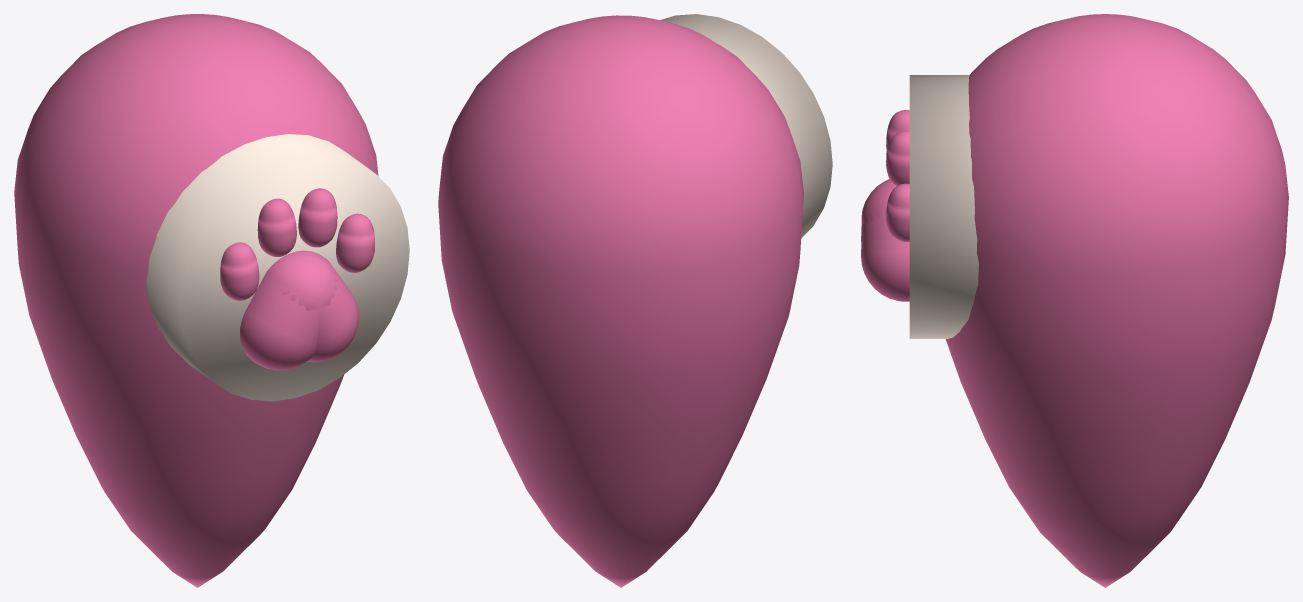
File: dogPin.glb
3 renders of one model, left to right at view 1: azimuth 30°, elevation 25°; view 2: azimuth 150°, elevation 25°; view 3: azimuth 270°, elevation 25°, orthographic.
Parts seen in each view (by area): view 1: pin.011, Cylinder.055, Sphere.033, Sphere.036, Sphere.034, Sphere.029, Sphere.035; view 2: pin.011, Cylinder.055; view 3: pin.011, Cylinder.055, Sphere.033, Sphere.034, Sphere.036.
Boxes of the visible parts, bbox=[...] form: pin.011: bbox=[14, 14, 378, 587]; Cylinder.055: bbox=[146, 134, 409, 401]; Sphere.033: bbox=[240, 250, 358, 370]; Sphere.036: bbox=[298, 188, 337, 247]; Sphere.034: bbox=[336, 213, 374, 272]; Sphere.029: bbox=[220, 242, 259, 300]; Sphere.035: bbox=[257, 198, 296, 256]; pin.011: bbox=[438, 15, 803, 587]; Cylinder.055: bbox=[660, 14, 832, 238]; pin.011: bbox=[945, 14, 1288, 587]; Cylinder.055: bbox=[909, 75, 978, 338]; Sphere.033: bbox=[861, 179, 909, 301]; Sphere.034: bbox=[886, 183, 909, 241]; Sphere.036: bbox=[886, 130, 909, 185].
Size of the model in its own units: 0.2435 by 0.4072 by 0.2836.
